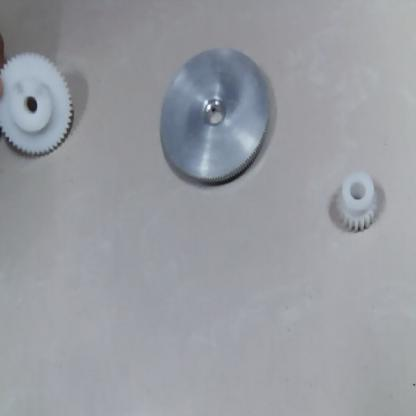FOD: (155, 43, 283, 189), (0, 49, 80, 166), (328, 170, 384, 235)
